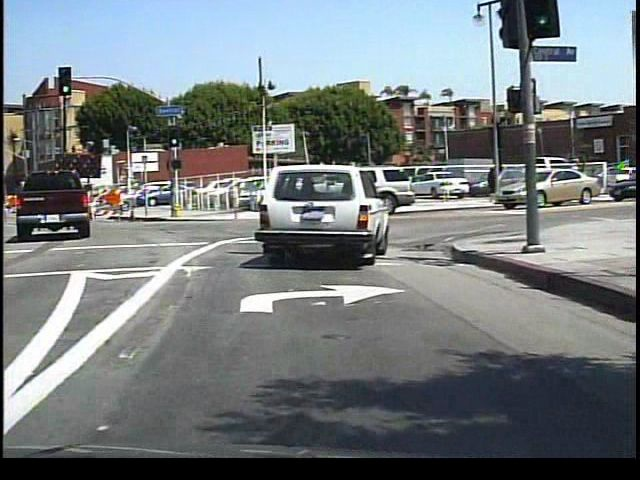person: (483, 166, 495, 195)
